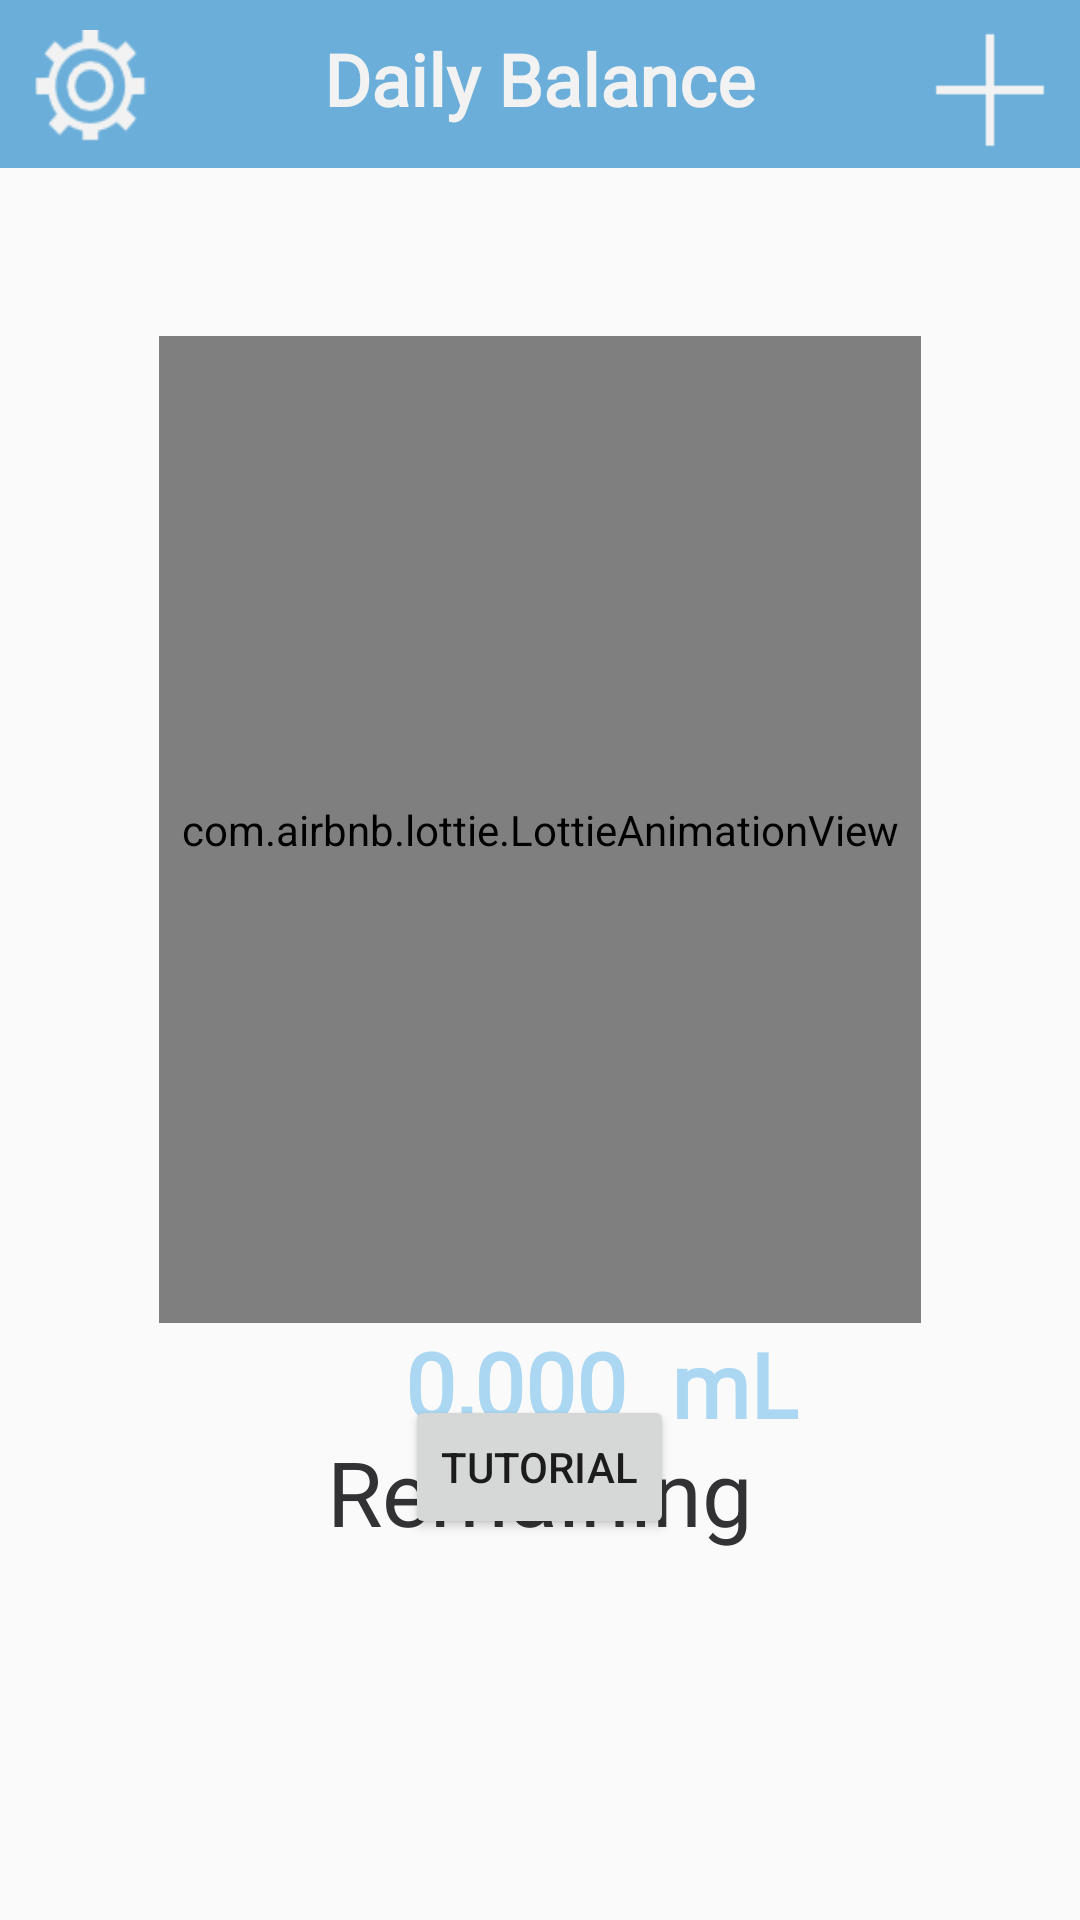

Screen size 1080px×1920px. Icon name, then its center in pixels as point (x, y):
piu: point (990, 90)
settings: point (90, 85)
